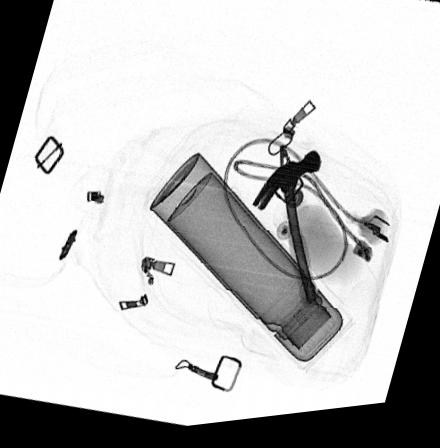Hammer: (252, 157, 322, 316)
